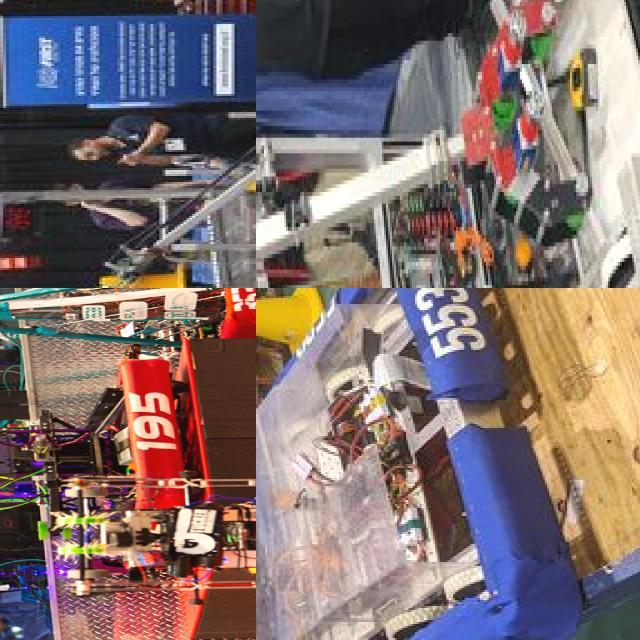FRC-Robots: (256, 0, 640, 288), (256, 288, 564, 640), (49, 0, 256, 288), (0, 350, 196, 603), (41, 417, 256, 640), (0, 288, 256, 356)
